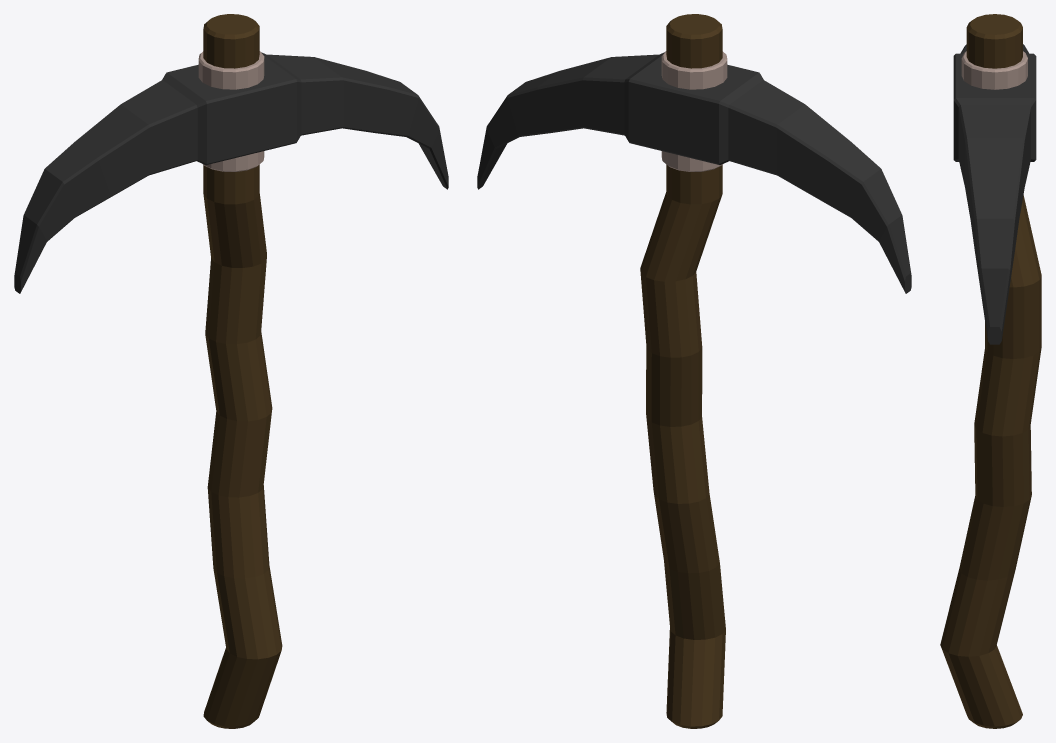
File: picacha_lowpoly.fbx
3 renders of one model, left to right at view 1: azimuth 30°, elevation 25°; view 2: azimuth 150°, elevation 25°; view 3: azimuth 270°, elevation 25°, orthographic.
Parts seen in each view (by area): view 1: Cylinder.040, Cube.021, Cylinder.041, Cylinder.042; view 2: Cylinder.040, Cube.021, Cylinder.041, Cylinder.042; view 3: Cylinder.040, Cube.021, Cylinder.041.
Part boxes in pixels (x1,y1,x2,y2): Cylinder.040: [203, 14, 282, 728]; Cube.021: [14, 52, 448, 293]; Cylinder.041: [198, 51, 264, 89]; Cylinder.042: [203, 151, 264, 171]; Cylinder.040: [640, 14, 725, 728]; Cube.021: [477, 52, 911, 293]; Cylinder.041: [661, 51, 727, 89]; Cylinder.042: [661, 151, 722, 171]; Cylinder.040: [940, 14, 1041, 728]; Cube.021: [953, 44, 1036, 344]; Cylinder.041: [961, 51, 1027, 89].
Bounding box in the file's own units: 1747 × 2712 × 359.
